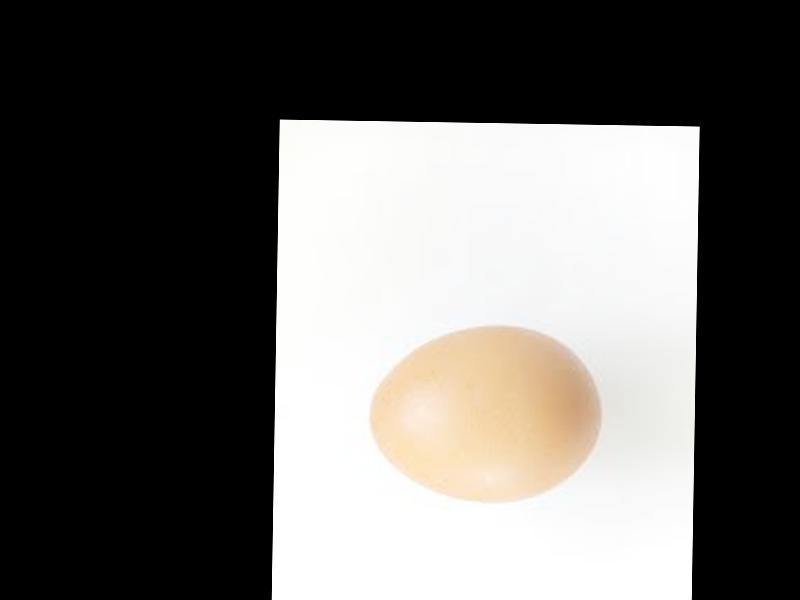Eggs: (364, 321, 605, 503)
